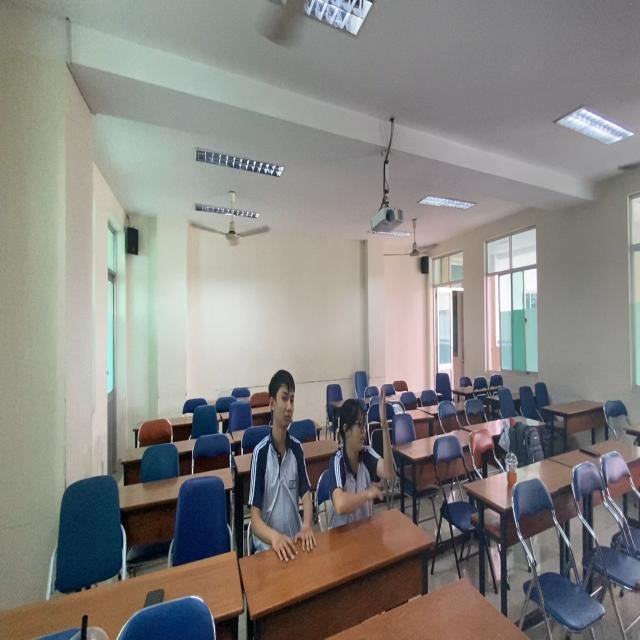raise_hand: (321, 355, 401, 540)
